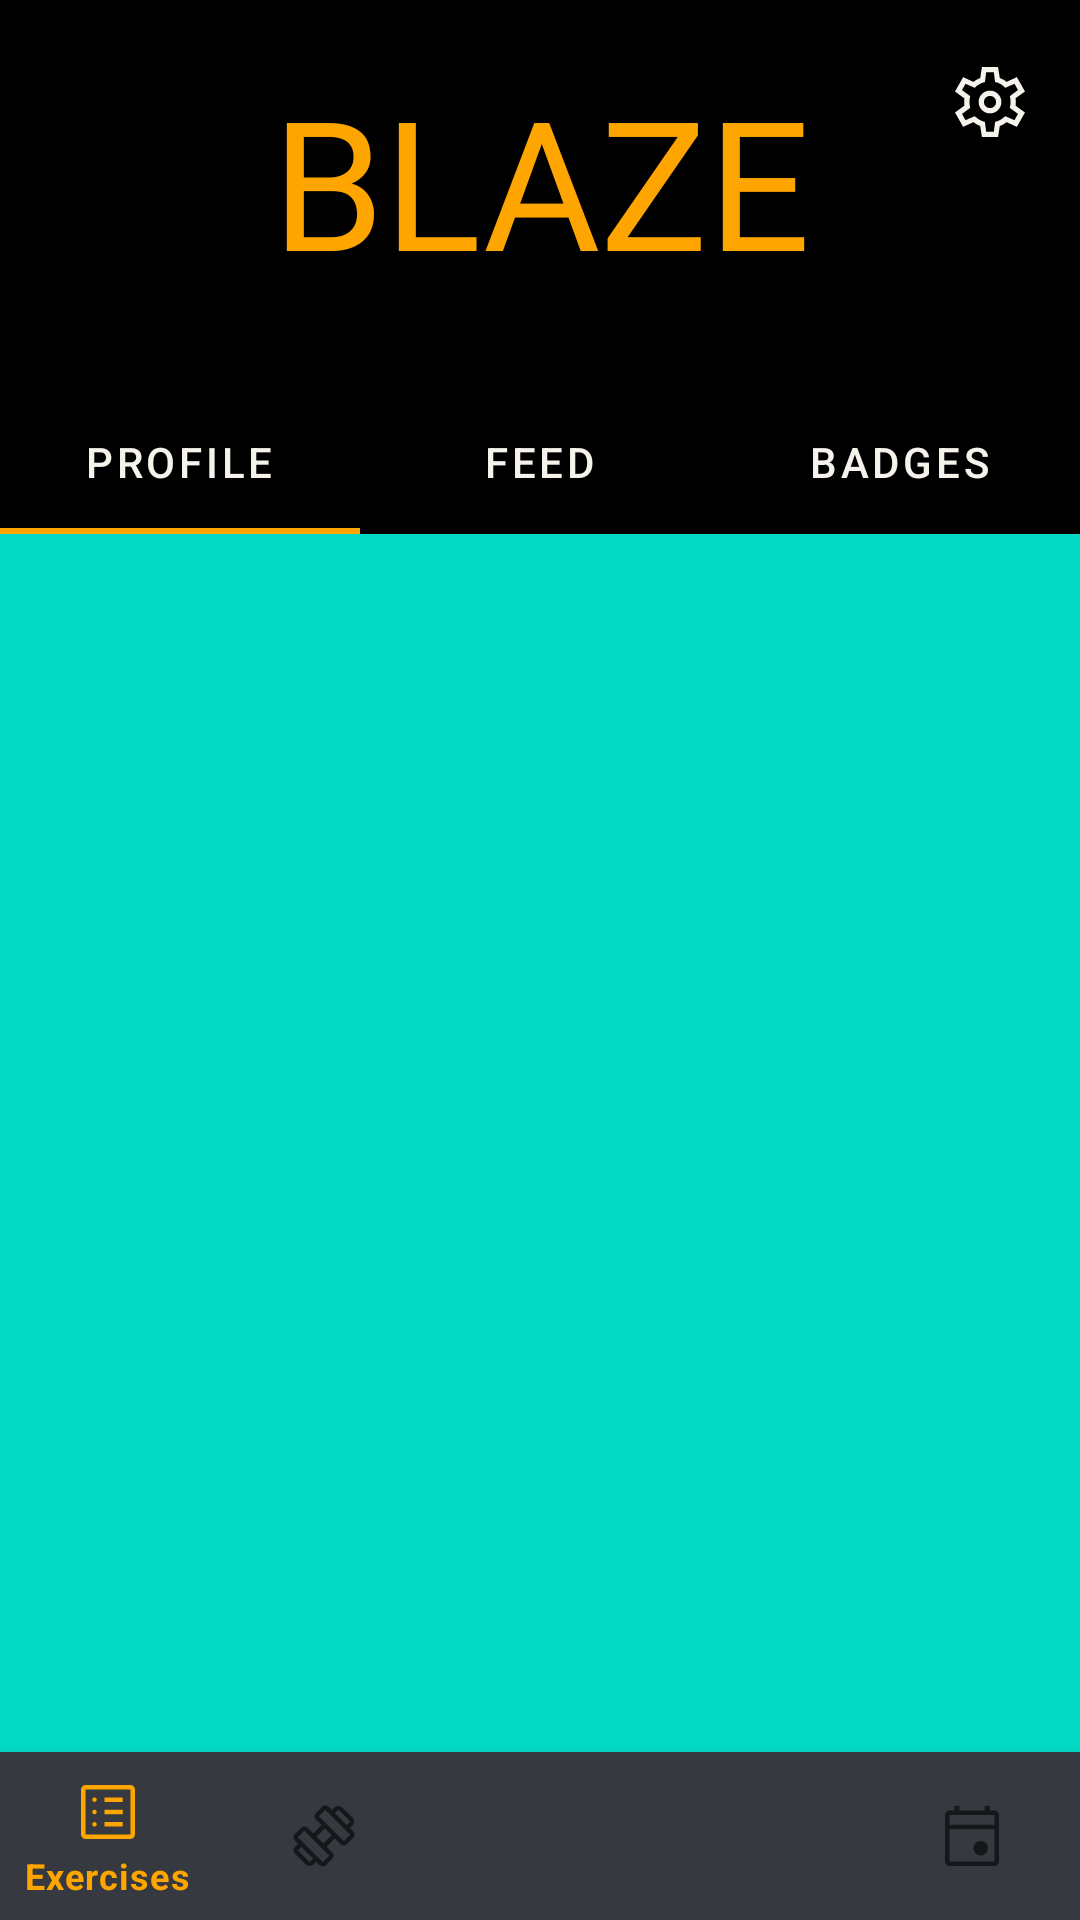

Point at icon controls on the screen. Image size 1080x1920, points as point (x, y).
settings: point (990, 102)
